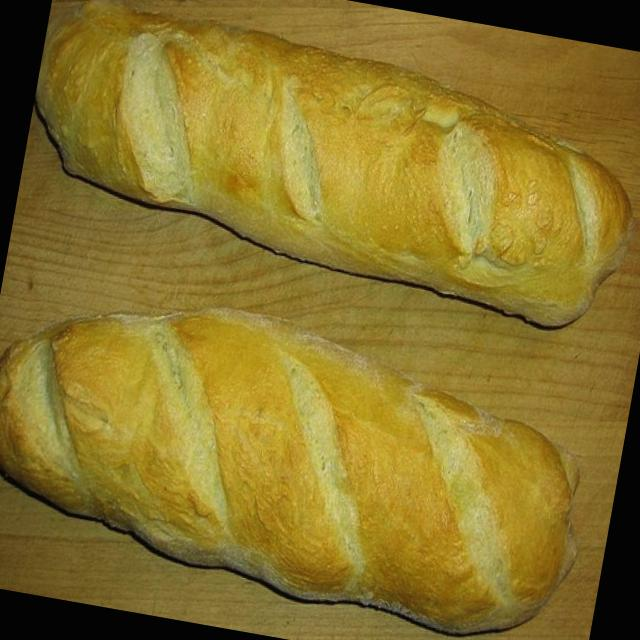Bread: (6, 0, 640, 364), (0, 259, 604, 640)
